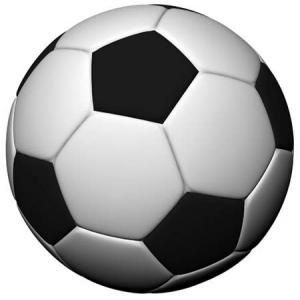Football: (1, 1, 300, 300)
